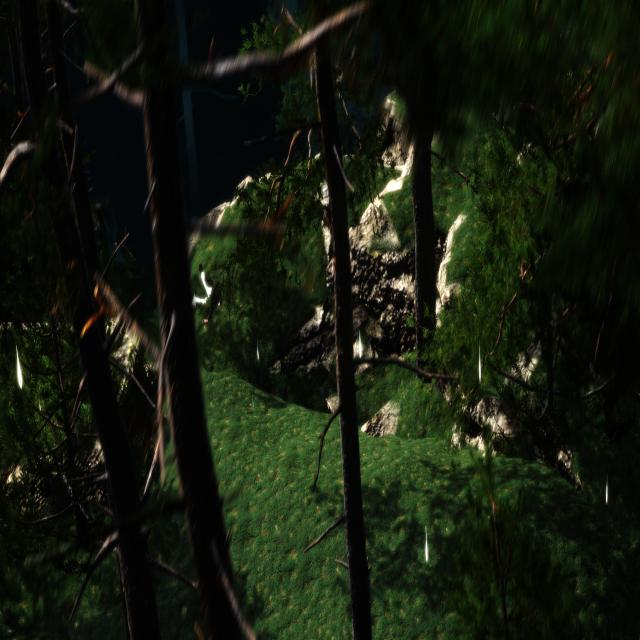Human: (192, 259, 224, 330)
